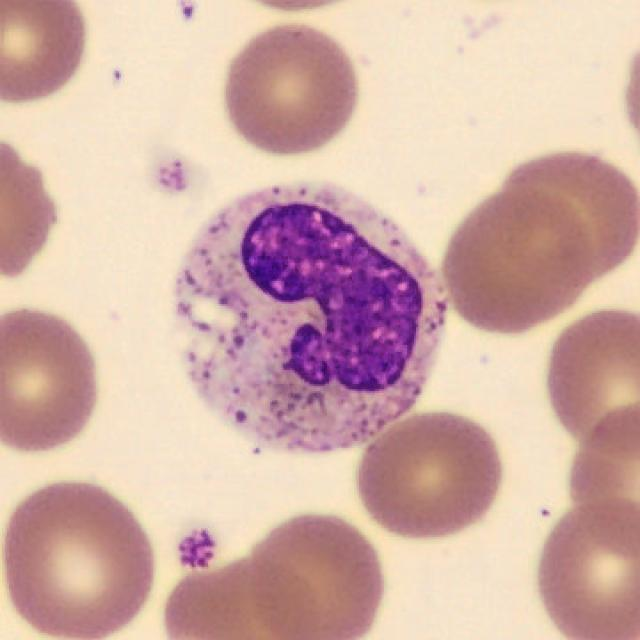Neutrofilo segmentado: (172, 185, 448, 455)
